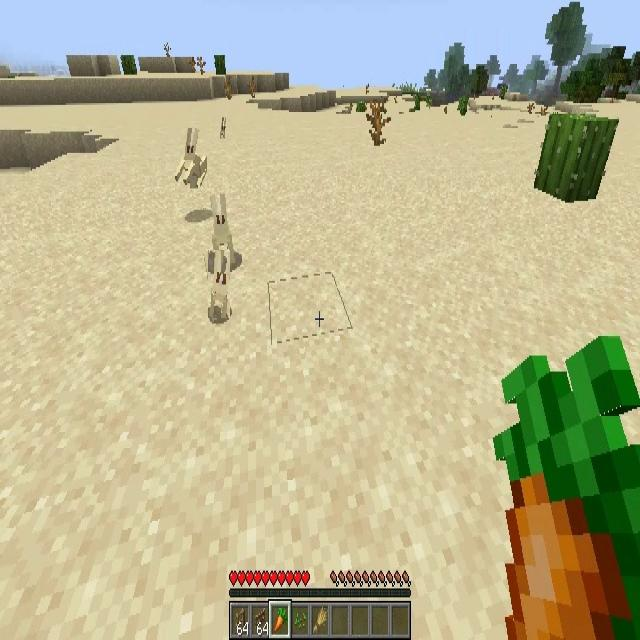rabbit: (175, 128, 207, 193), (212, 192, 236, 268), (208, 250, 230, 318), (220, 117, 227, 139)
